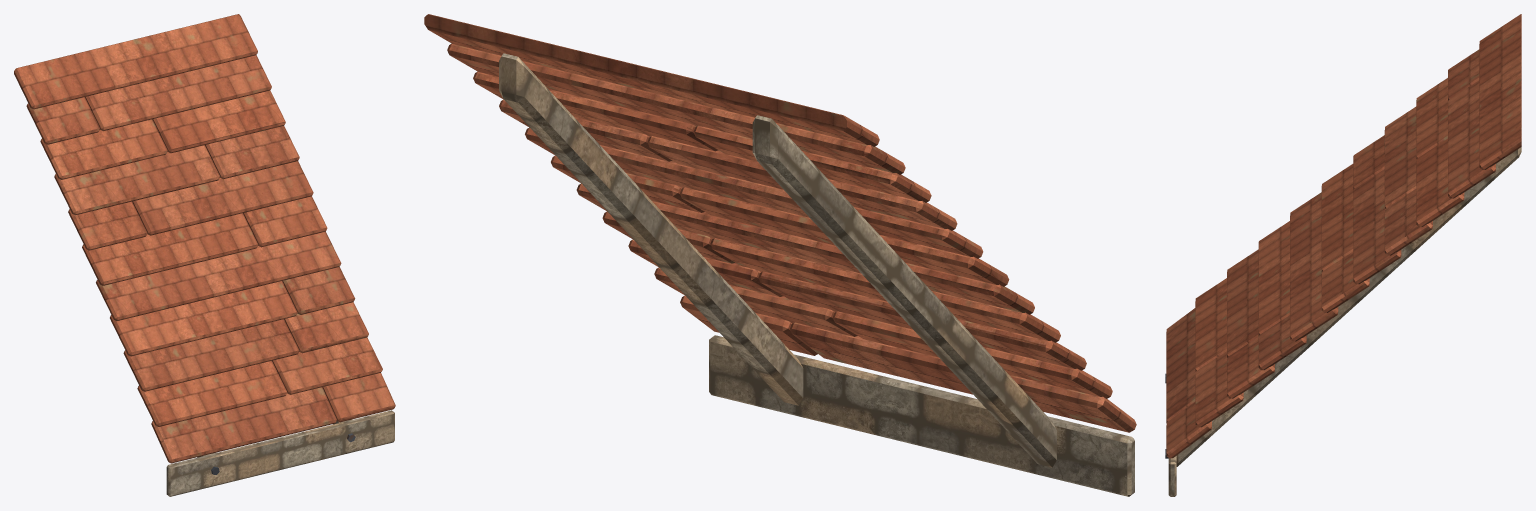
The model's file is egimli_cati.glb.
3 views of the same model, side by side, from view 1: azimuth 30°, elevation 25°; view 2: azimuth 150°, elevation 25°; view 3: azimuth 270°, elevation 25° (orthographic). The views are drawn at different scales.
Visible parts, largest first — view 1: egimli_cati; view 2: egimli_cati; view 3: egimli_cati.
Boxes of the visible parts, x1=… form: egimli_cati: x1=14, y1=14, x2=395, y2=496; egimli_cati: x1=424, y1=14, x2=1136, y2=496; egimli_cati: x1=1165, y1=14, x2=1521, y2=496.
Size of the model in its own units: 3 by 4 by 3.6.
1 material, 1 textured.
